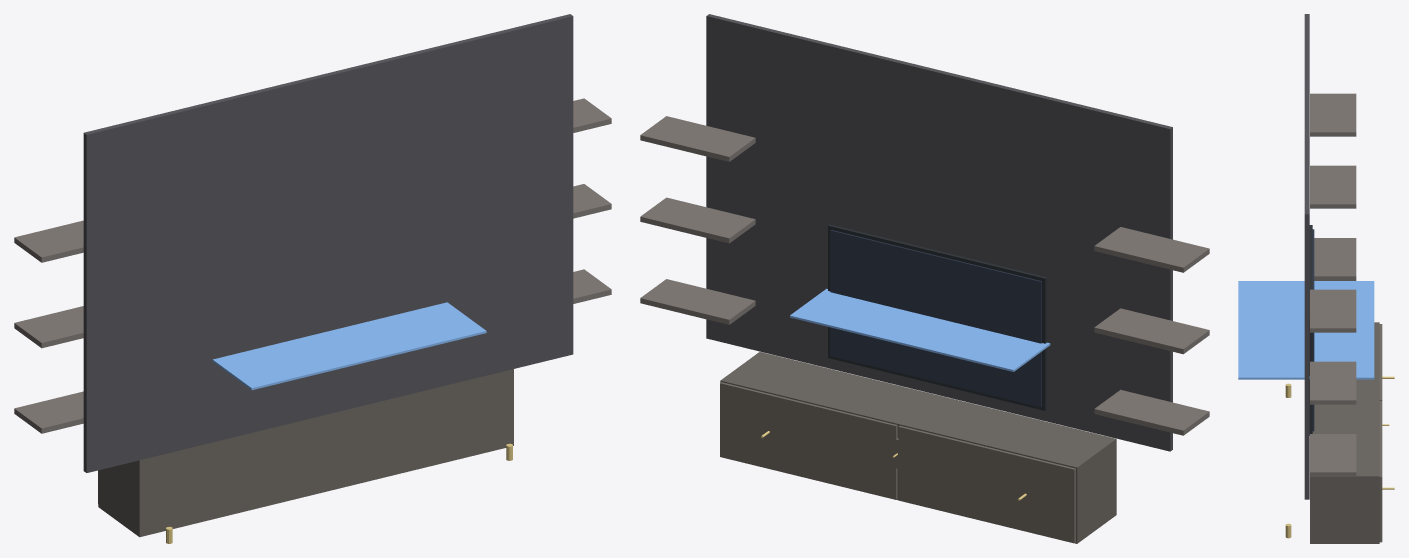
The model's file is tv_wall.glb.
3 renders of one model, left to right at view 1: azimuth 30°, elevation 25°; view 2: azimuth 150°, elevation 25°; view 3: azimuth 270°, elevation 25°, orthographic. The views are drawn at different scales.
Visible parts, largest first — view 1: TVWall; view 2: TVWall; view 3: TVWall.
Part boxes in pixels (x1,y1,x2,y2): TVWall: [14, 14, 611, 543]; TVWall: [640, 14, 1209, 543]; TVWall: [1238, 14, 1394, 543].
Size of the model in its own units: 3.35 by 2.35 by 0.942.
